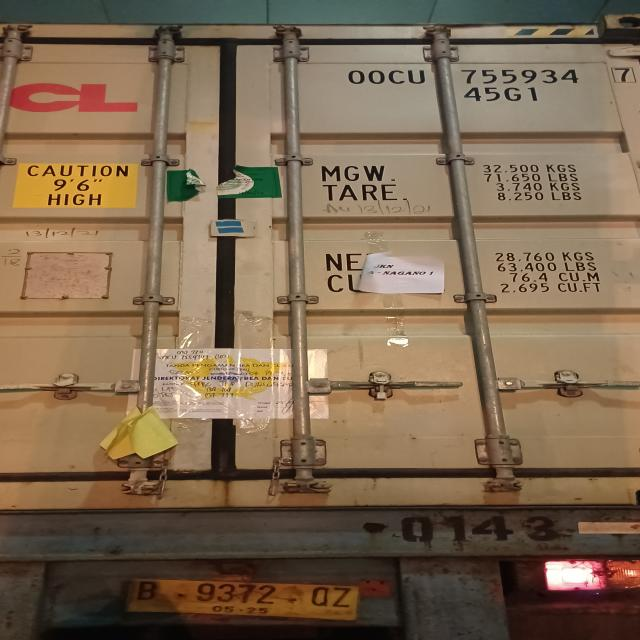seal: (358, 372, 403, 402)
